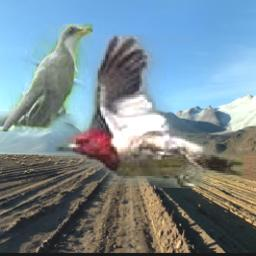Cuckoo: (1, 25, 94, 132)
Woodpecker: (54, 36, 244, 189)
